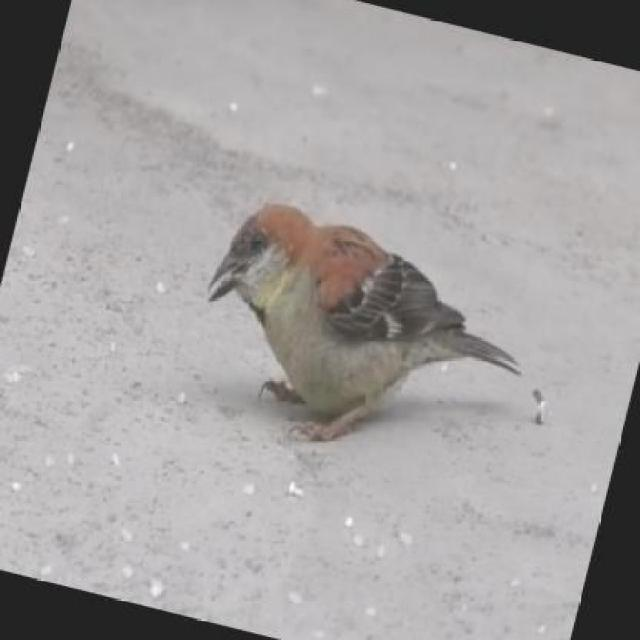Bird: (202, 195, 525, 442)
